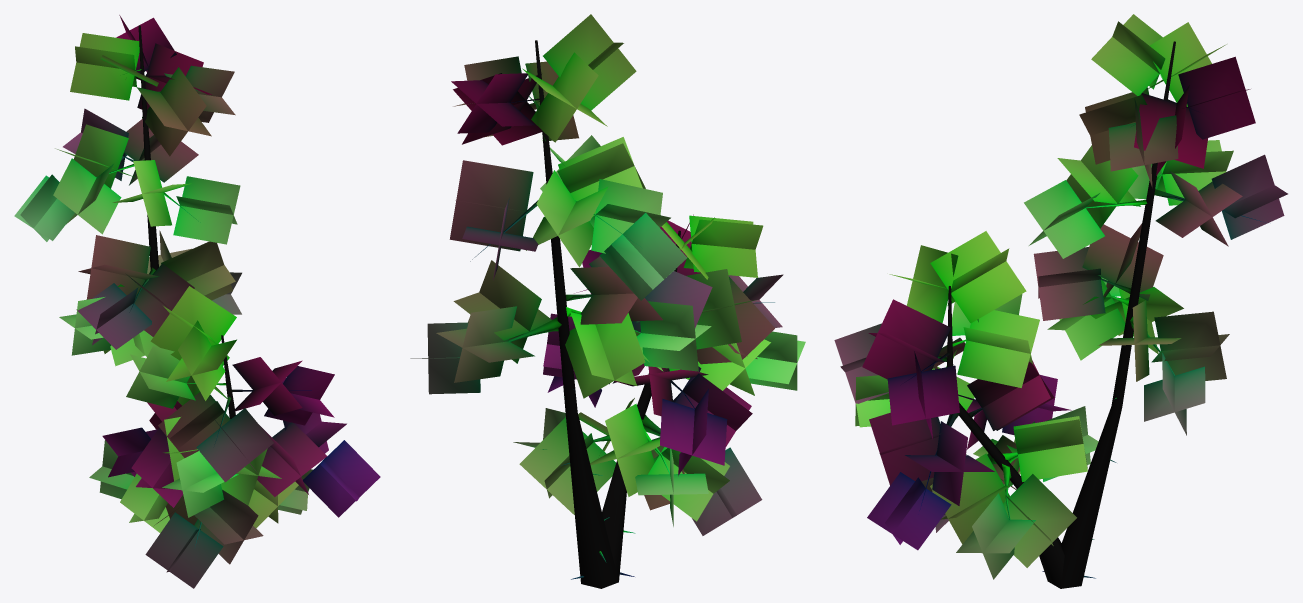
File: URP_P7_Tree_8_LOD_3.fbx
3 renders of one model, left to right at view 1: azimuth 30°, elevation 25°; view 2: azimuth 150°, elevation 25°; view 3: azimuth 270°, elevation 25°, orthographic. The views are drawn at different scales.
Parts seen in each view (by area): view 1: Tree_8_LOD_3; view 2: Tree_8_LOD_3; view 3: Tree_8_LOD_3.
Boxes of the visible parts, x1=… form: Tree_8_LOD_3: x1=14, y1=15, x2=380, y2=588; Tree_8_LOD_3: x1=410, y1=14, x2=805, y2=588; Tree_8_LOD_3: x1=834, y1=14, x2=1287, y2=588.
Size of the model in its own units: 268 by 548 by 408.
